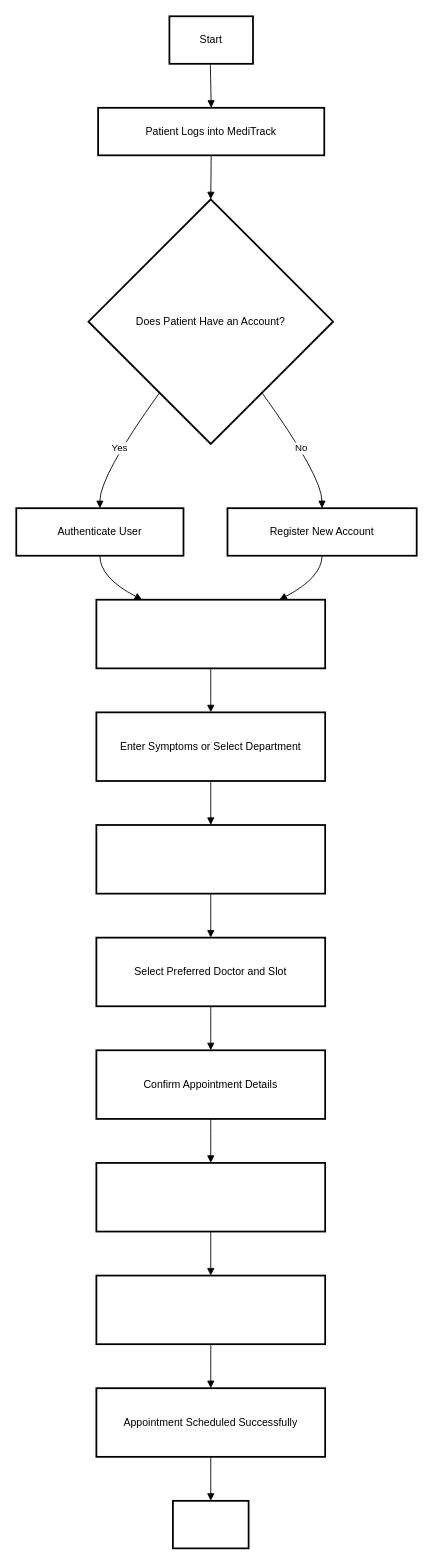
Image size: 432x1564. Some labels were removed from this diagram. The box of each missing label's shape, as (x1, y1, x2, y2) in pixels:
Choose 'Schedule Appointment': (95, 598, 326, 669)
End: (172, 1500, 249, 1549)
Receive Confirmation with Unique ID: (95, 1162, 326, 1232)
Set Reminders and Notifications: (95, 1274, 326, 1345)
View Available Doctors & Time Slots: (95, 824, 326, 894)
